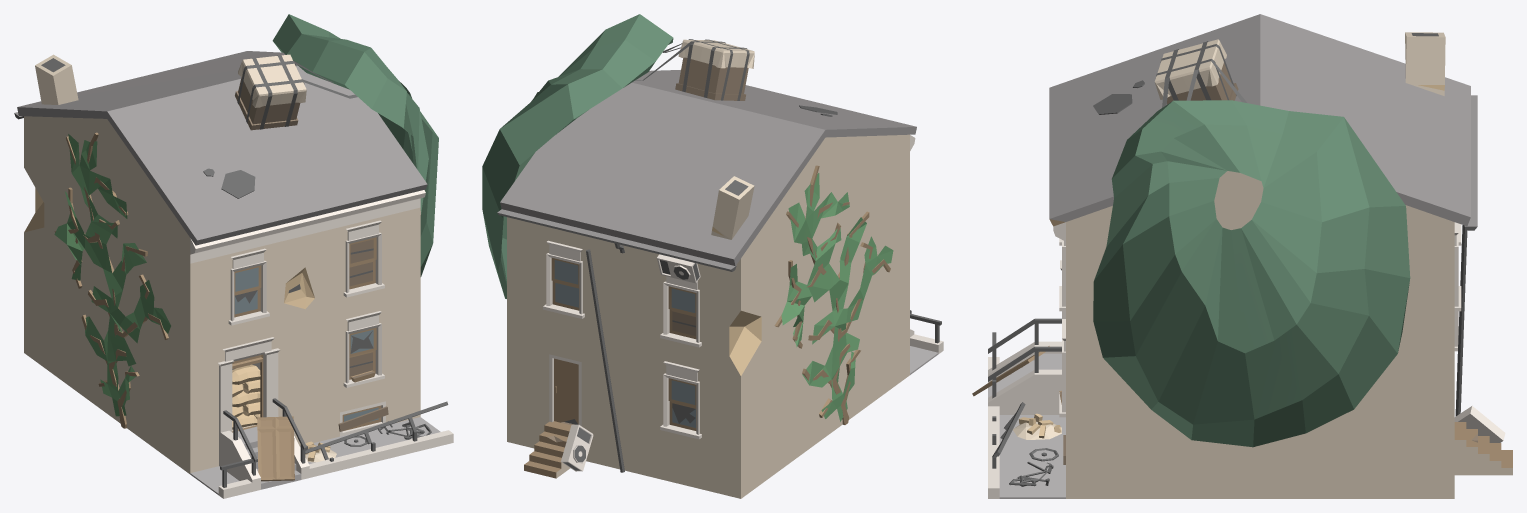
The model's file is big-house--block-col.glb.
3 renders of one model, left to right at view 1: azimuth 30°, elevation 25°; view 2: azimuth 150°, elevation 25°; view 3: azimuth 270°, elevation 25°, orthographic. The views are drawn at different scales.
Visible parts, largest first — view 1: building_house_block_big_apocalypse_main, building_house_block_big_apocalypse_props_a, building_house_block_big_apocalypse_props_b; view 2: building_house_block_big_apocalypse_main, building_house_block_big_apocalypse_props_a, building_house_block_big_apocalypse_props_b; view 3: building_house_block_big_apocalypse_main, building_house_block_big_apocalypse_props_a, building_house_block_big_apocalypse_props_b.
Part boxes in pixels (left/top/right/bottom): building_house_block_big_apocalypse_main: left=14, top=51, right=453, bottom=498; building_house_block_big_apocalypse_props_a: left=235, top=14, right=438, bottom=276; building_house_block_big_apocalypse_props_b: left=54, top=132, right=431, bottom=462; building_house_block_big_apocalypse_main: left=497, top=70, right=943, bottom=498; building_house_block_big_apocalypse_props_a: left=482, top=14, right=754, bottom=298; building_house_block_big_apocalypse_props_b: left=774, top=165, right=893, bottom=424; building_house_block_big_apocalypse_main: left=972, top=14, right=1512, bottom=498; building_house_block_big_apocalypse_props_a: left=1093, top=39, right=1410, bottom=447; building_house_block_big_apocalypse_props_b: left=1009, top=413, right=1061, bottom=486.
Bounding box in the file's own units: 11.03 × 11.27 × 13.91.
